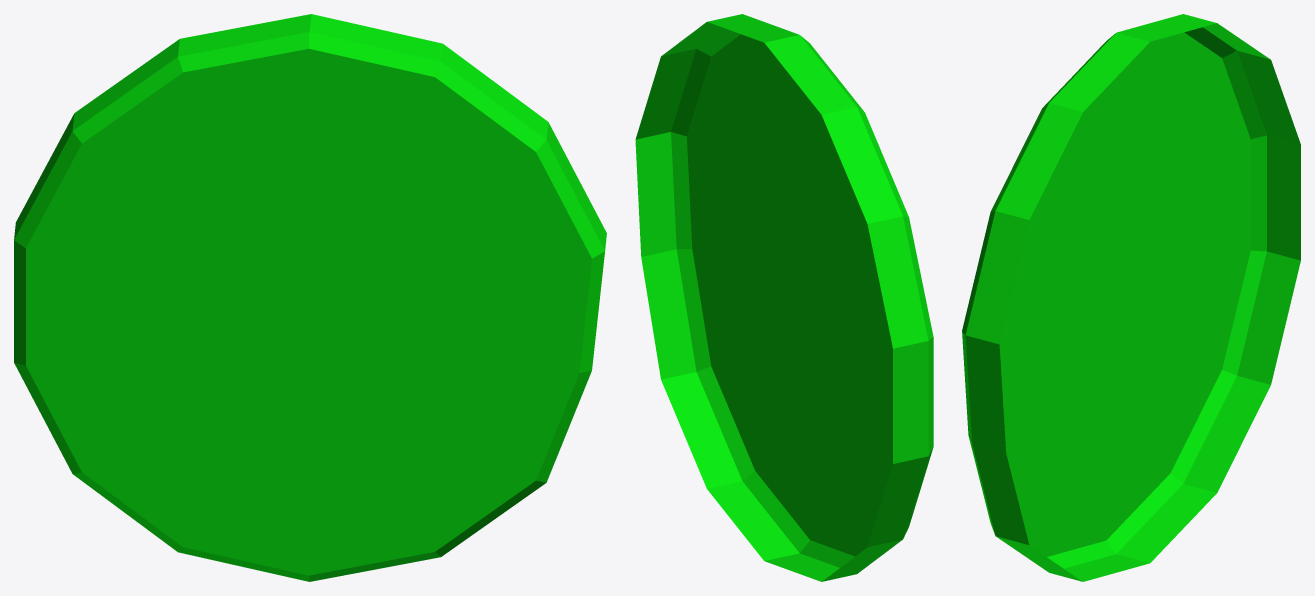
Rendered from onButtonShower.fbx.
The picture shows the model from 3 angles, left to right: view 1: azimuth 30°, elevation 25°; view 2: azimuth 150°, elevation 25°; view 3: azimuth 270°, elevation 25°; orthographic projection. The views are drawn at different scales.
Visible parts, largest first — view 1: onBtuttonShower; view 2: onBtuttonShower; view 3: onBtuttonShower.
Boxes of the visible parts, x1,y1,x2,y2 form: onBtuttonShower: (14,14,606,581); onBtuttonShower: (635,14,933,581); onBtuttonShower: (962,14,1300,581).
Size of the model in its own units: 6.29 by 7.32 by 4.31.
